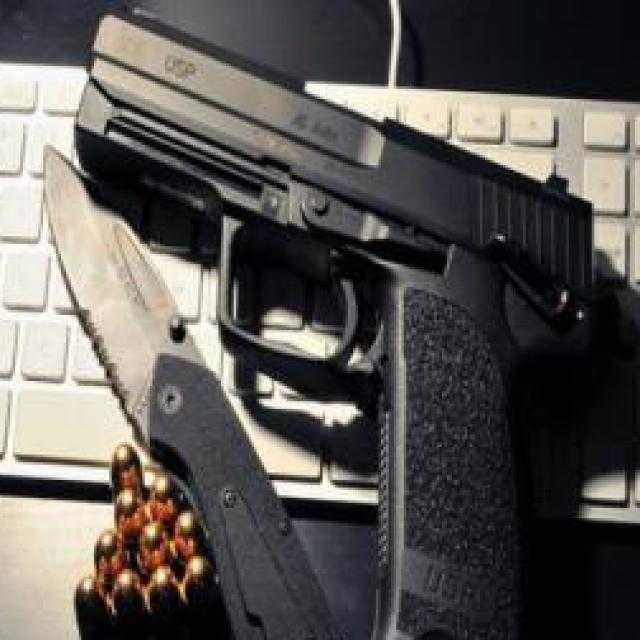pistol: (68, 2, 596, 640)
